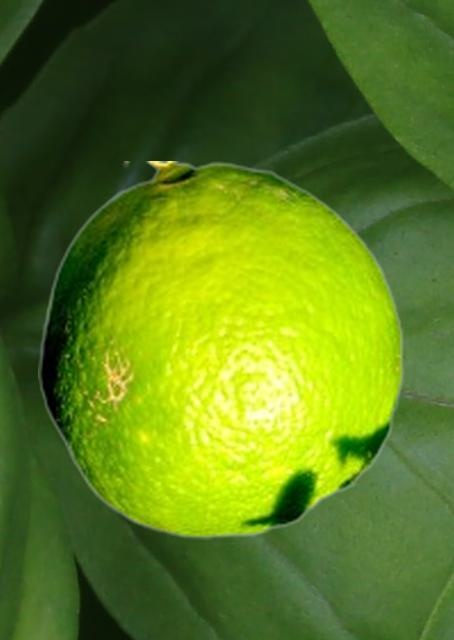dalandan: (38, 161, 403, 538)
